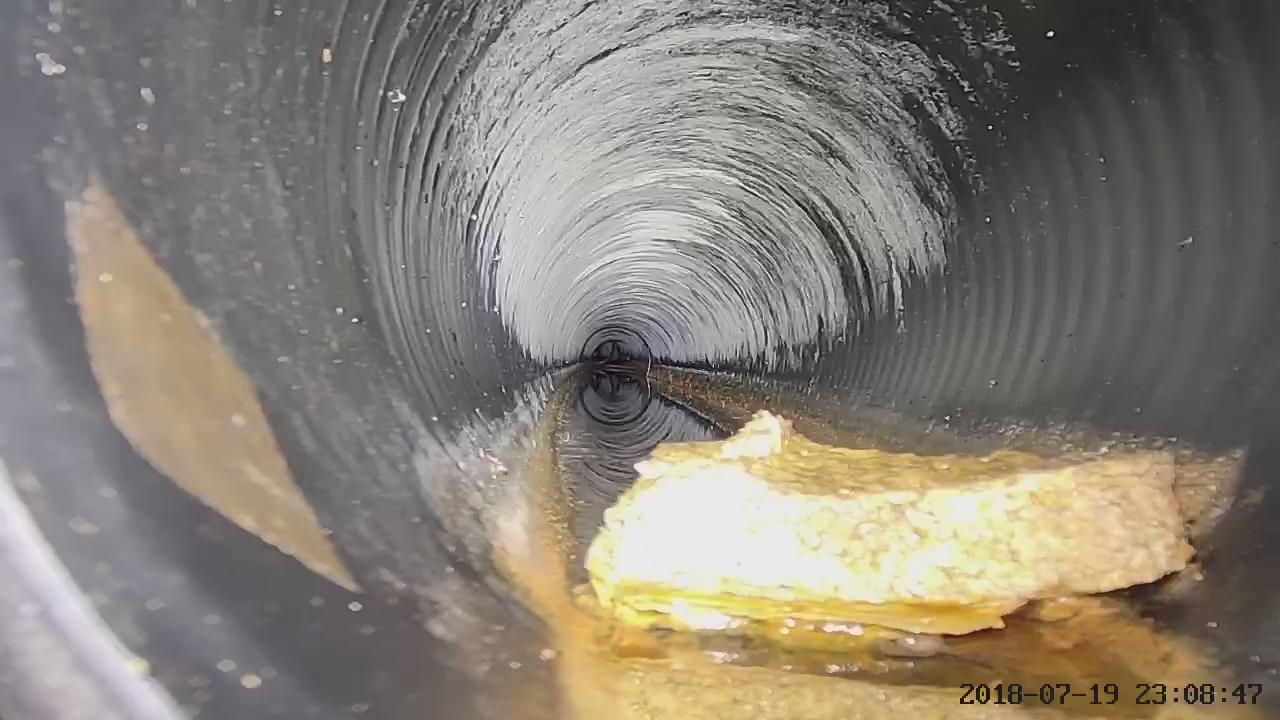ZAW: (585, 410, 1194, 634)
